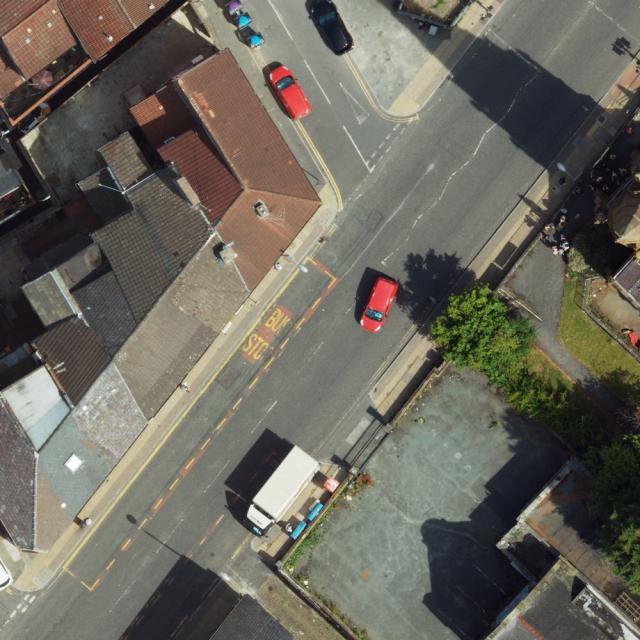roof: (0, 46, 322, 554), (496, 462, 640, 640), (0, 0, 172, 104), (613, 251, 640, 311)
skylight: (60, 450, 85, 473)
